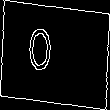O_S: (43, 28, 67, 82)
